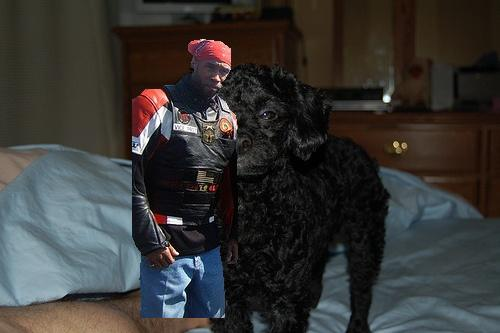tampered: (133, 40, 238, 318)
